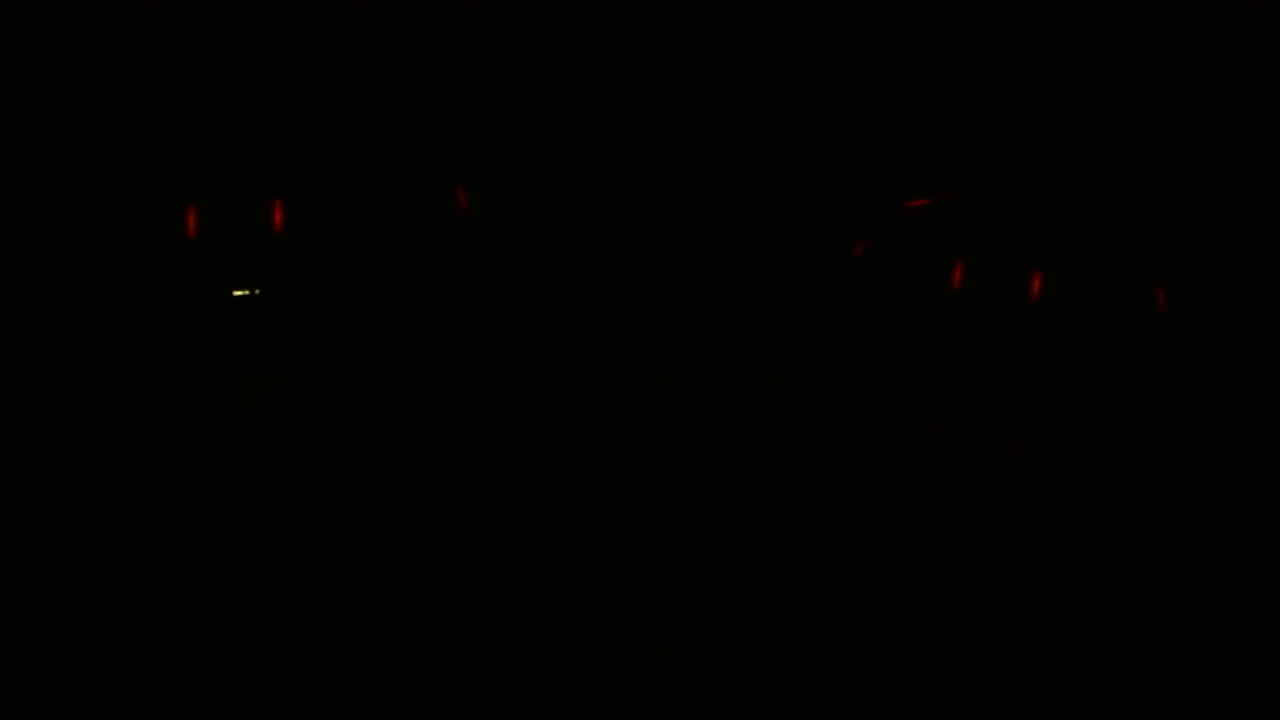pair1: (944, 254, 1044, 304), (177, 203, 287, 233)
